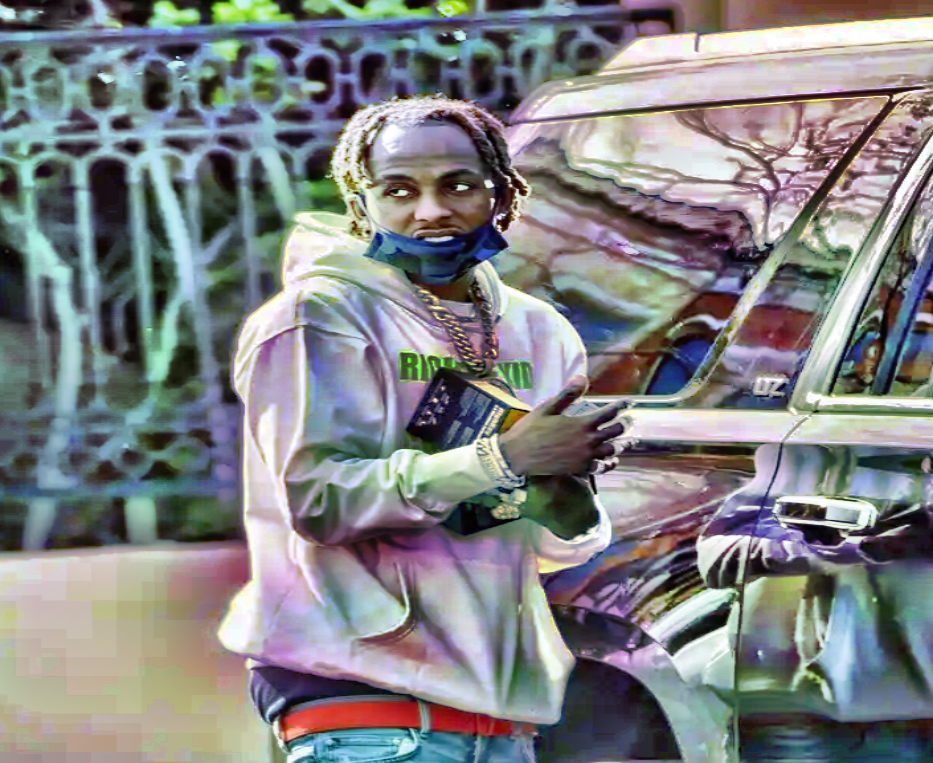mask_weared_incorrect: (333, 97, 526, 288)
